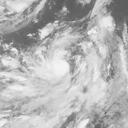cyclone: (29, 42, 76, 94)
